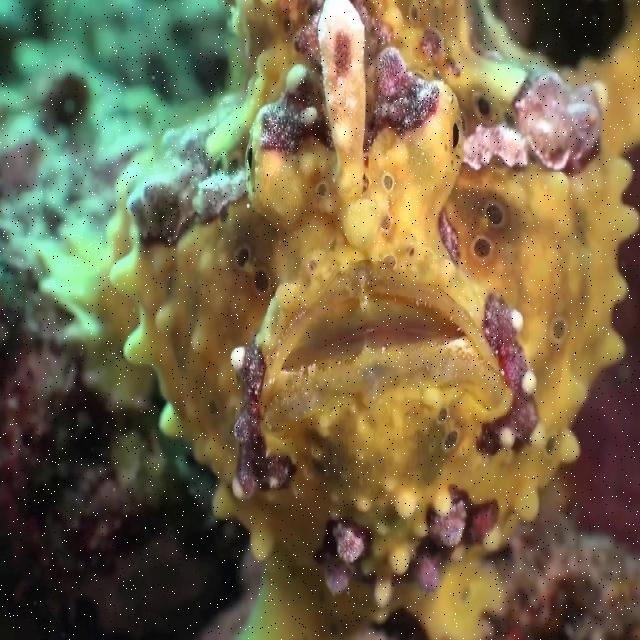fish: (113, 1, 639, 639)
